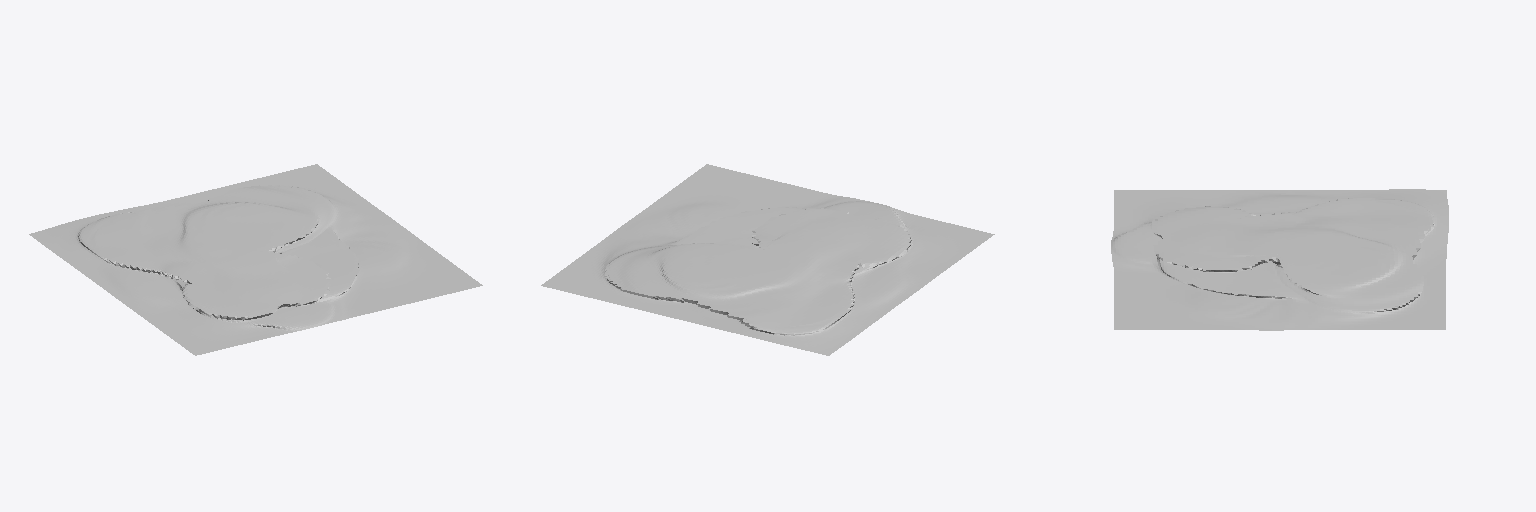
Rendered from ground.obj.
3 views of the same model, side by side, from view 1: azimuth 30°, elevation 25°; view 2: azimuth 150°, elevation 25°; view 3: azimuth 270°, elevation 25° (orthographic).
Visible parts, largest first — view 1: Plane; view 2: Plane; view 3: Plane.
Boxes of the visible parts, box(x1,y1,x2,y2) form: Plane: box(29, 164, 482, 355); Plane: box(541, 164, 994, 355); Plane: box(1111, 189, 1448, 330).
Bounding box in the file's own units: 100 × 2.71 × 102.